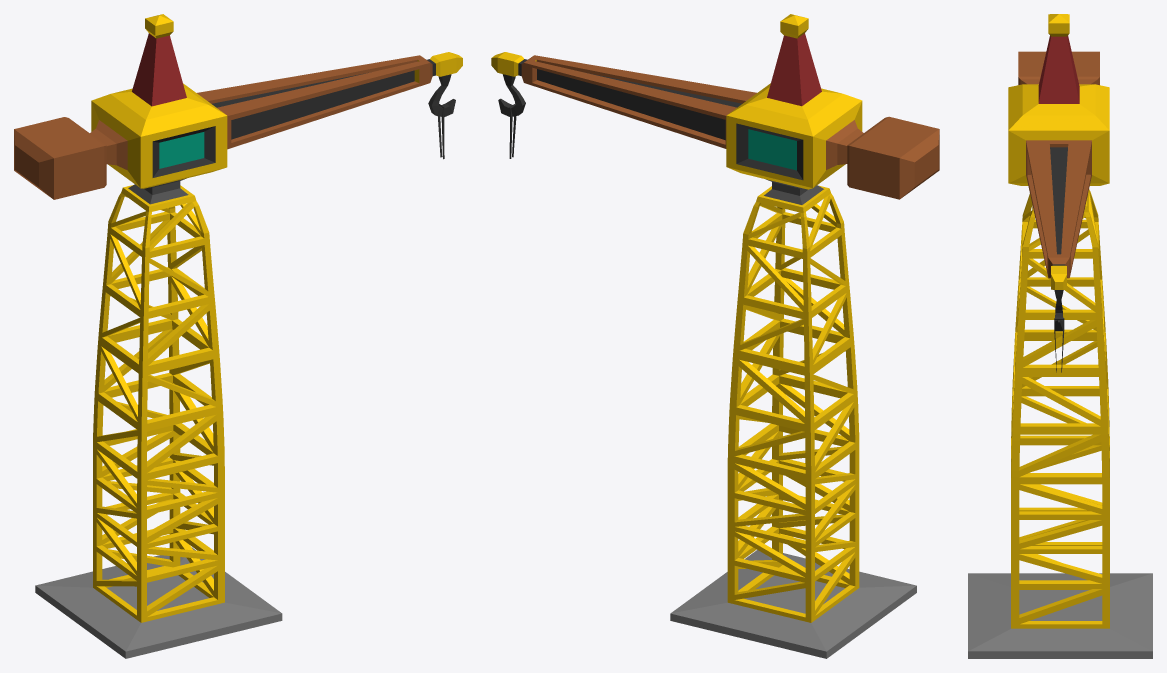
Rendered from Crane.fbx.
The picture shows the model from 3 angles, left to right: view 1: azimuth 30°, elevation 25°; view 2: azimuth 150°, elevation 25°; view 3: azimuth 270°, elevation 25°; orthographic projection. The views are drawn at different scales.
Parts seen in each view (by area): view 1: Cube.002; view 2: Cube.002; view 3: Cube.002.
Boxes of the visible parts, x1,y1,x2,y2 form: Cube.002: [14, 14, 462, 658]; Cube.002: [491, 14, 939, 658]; Cube.002: [968, 14, 1152, 658].
Size of the model in its own units: 8.46 by 11.03 by 3.05.
